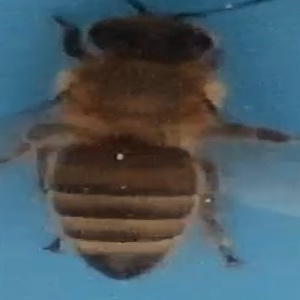bee: (8, 2, 293, 274)
